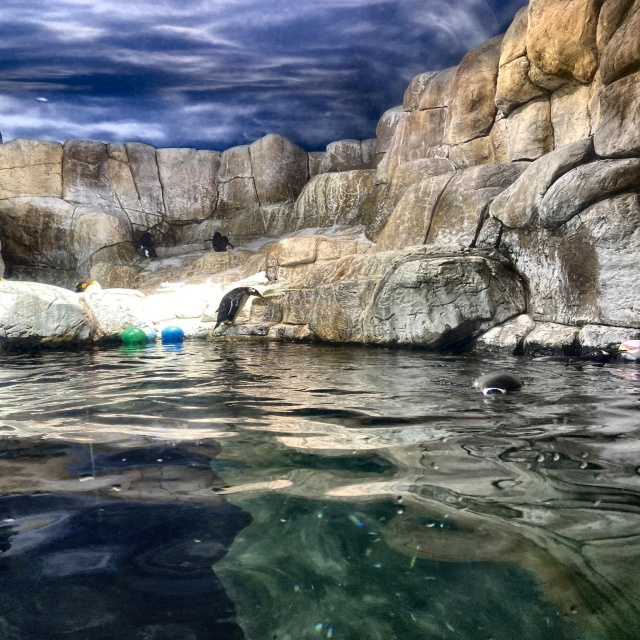penguin: (202, 283, 270, 327), (466, 368, 528, 412), (134, 228, 163, 257), (209, 231, 236, 253), (77, 273, 104, 294)
